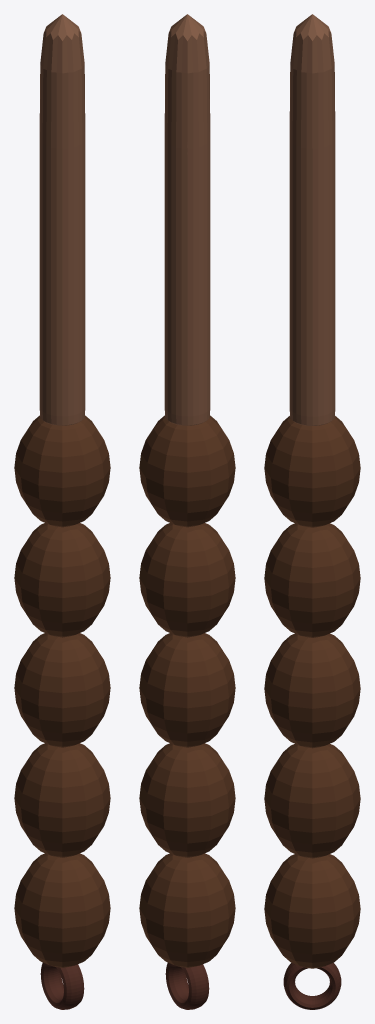
File: Wand 211.glb
3 views of the same model, side by side, from view 1: azimuth 30°, elevation 25°; view 2: azimuth 210°, elevation 25°; view 3: azimuth 270°, elevation 25° (orthographic).
Visible parts, largest first — view 1: GeneratedWand; view 2: GeneratedWand; view 3: GeneratedWand.
Part boxes in pixels (left/top/right/bottom): GeneratedWand: left=14, top=14, right=110, bottom=1009; GeneratedWand: left=139, top=14, right=235, bottom=1009; GeneratedWand: left=264, top=14, right=360, bottom=1009.
Size of the model in its own units: 0.0447 by 0.5114 by 0.0449.
